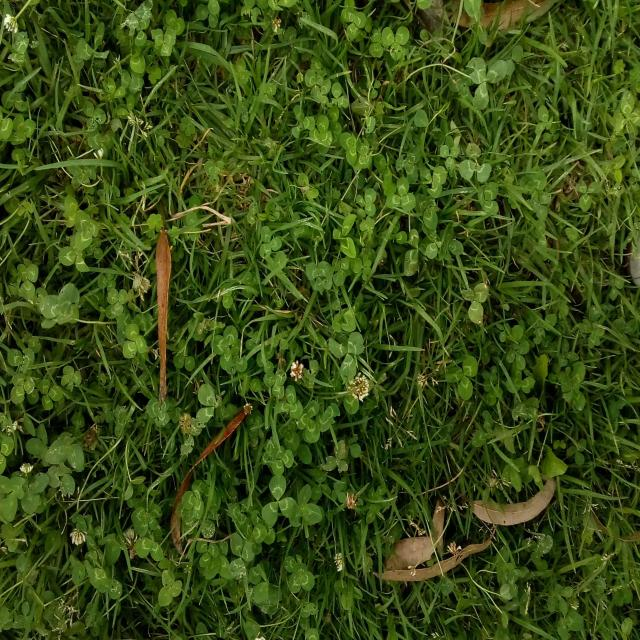Four Leaf Clover: (60, 365, 82, 392)
